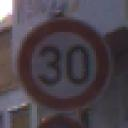speed_limit_30: (16, 18, 114, 112)
